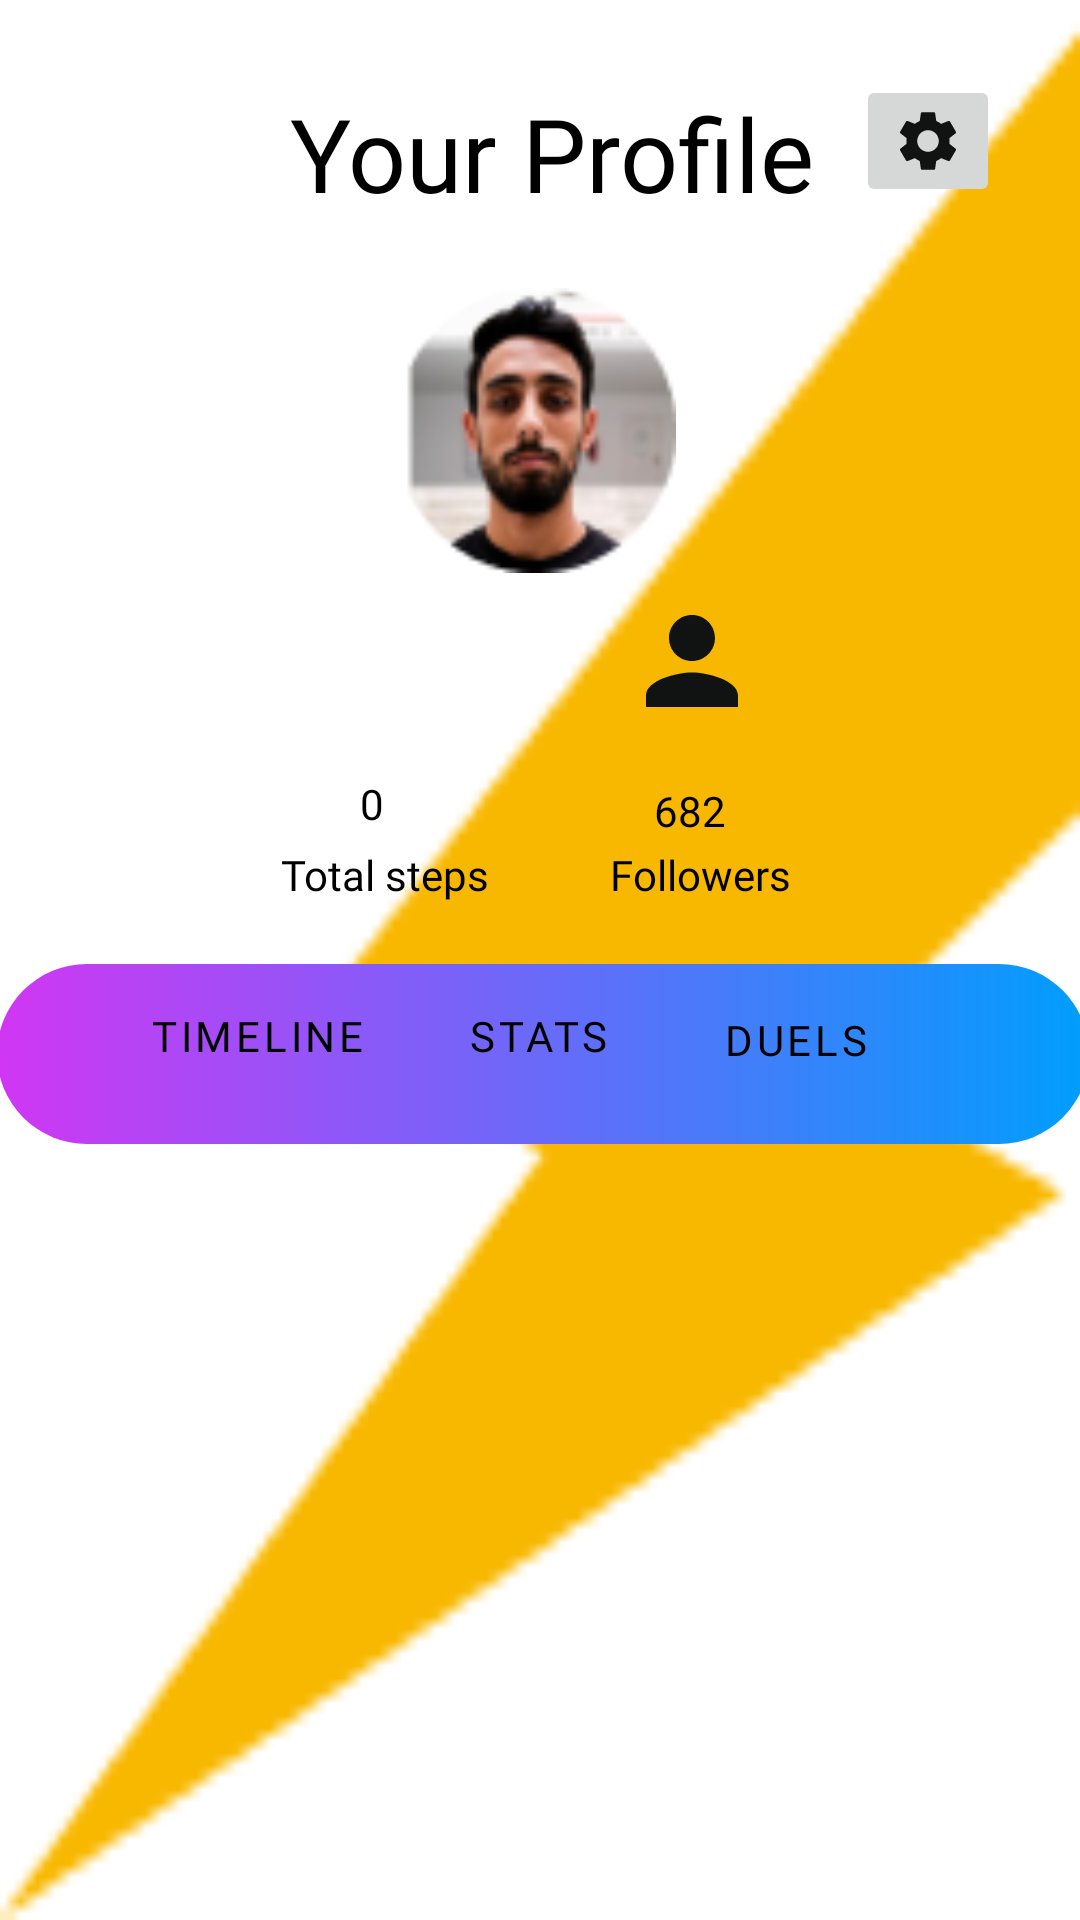

Screen size 1080x1920. Icon name, then its center in pixels as (x,y):
person: (692,661)
settings: (934,150)
